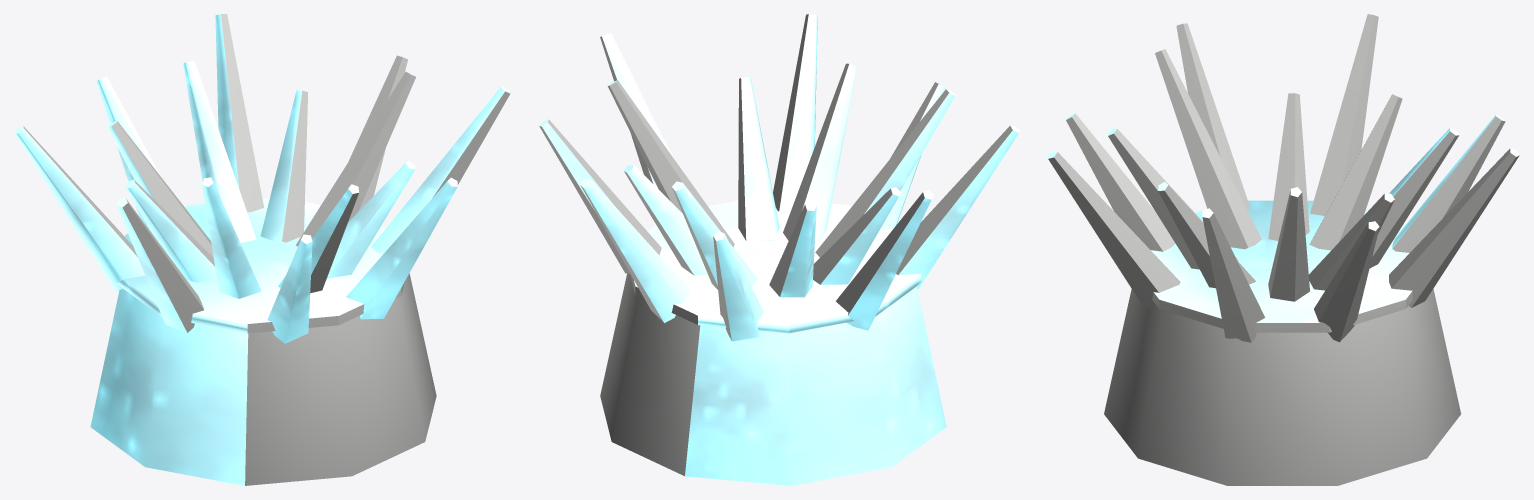
File: SM_ENV_Ocean_Anemone_Glow.fbx
3 renders of one model, left to right at view 1: azimuth 30°, elevation 25°; view 2: azimuth 150°, elevation 25°; view 3: azimuth 270°, elevation 25°, orthographic.
Visible parts, largest first — view 1: SM_ENV_Ocean_Anemone_Glow; view 2: SM_ENV_Ocean_Anemone_Glow; view 3: SM_ENV_Ocean_Anemone_Glow.
Boxes of the visible parts, x1,y1,x2,y2 form: SM_ENV_Ocean_Anemone_Glow: (14,14,510,485); SM_ENV_Ocean_Anemone_Glow: (539,14,1019,485); SM_ENV_Ocean_Anemone_Glow: (1048,14,1519,485).
Size of the model in its own units: 0.9164 by 0.6477 by 0.898.
